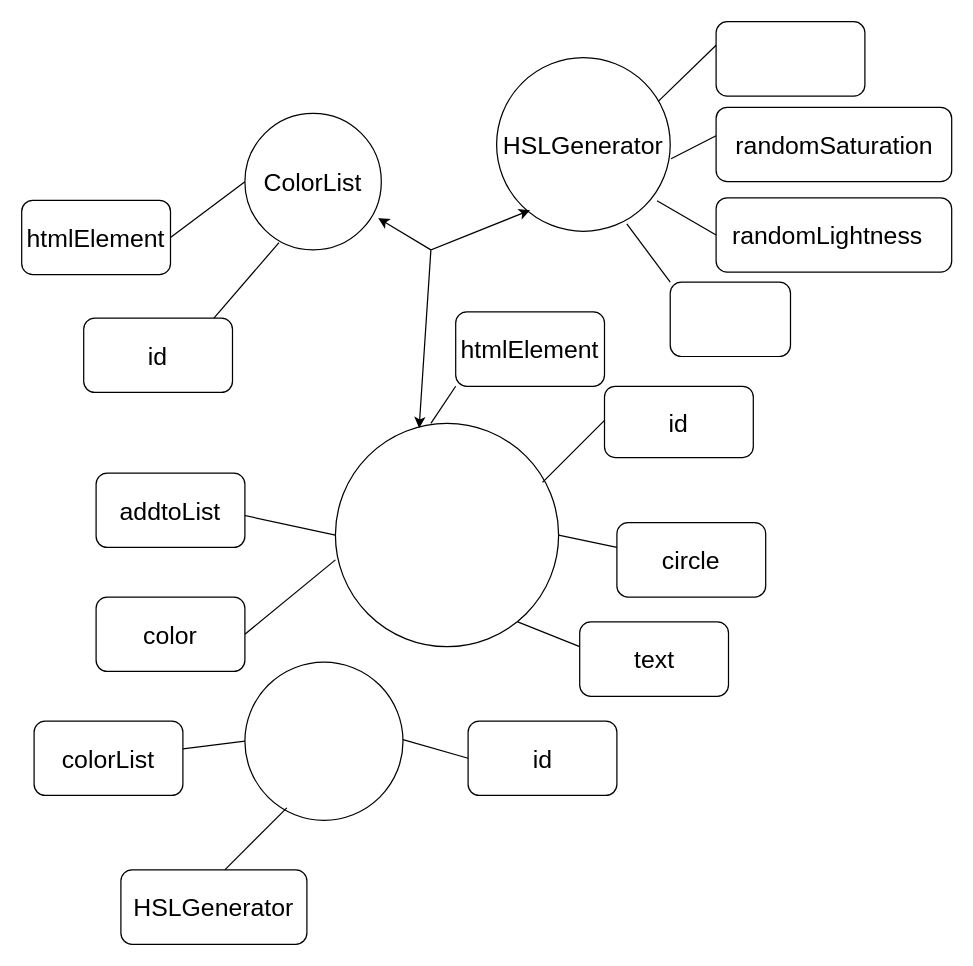
The diagram is 973 pixels wide and 966 high, and some of its shapes have lost their labels. The centre of each missing label's shape, as x and y in pixels:
"App" goes at point (323, 740).
"Card" goes at point (446, 534).
"hsl" goes at point (729, 318).
"randomHue" goes at point (790, 58).
